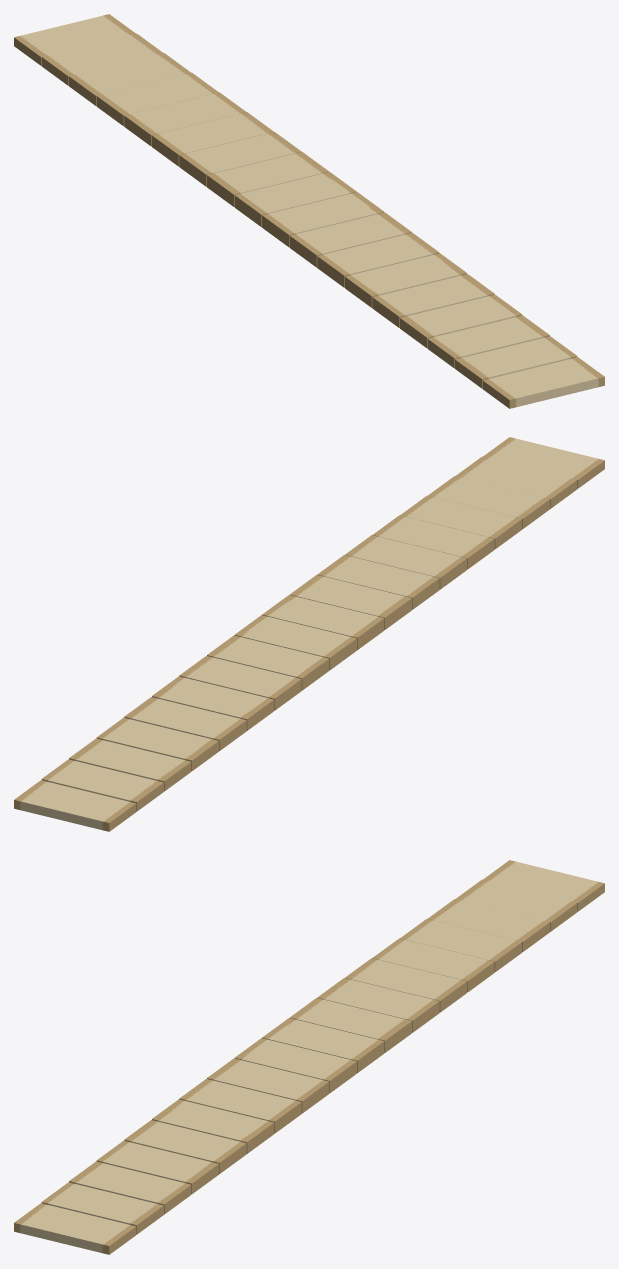
Rendered from bridge.glb.
3 renders of one model, top to bottom at view 1: azimuth 30°, elevation 25°; view 2: azimuth 150°, elevation 25°; view 3: azimuth 330°, elevation 25°, orthographic.
Visible parts, largest first — view 1: bridge; view 2: bridge; view 3: bridge.
Part boxes in pixels (x1,y1,x2,y2): bridge: (14,14,604,408); bridge: (14,437,604,831); bridge: (14,860,604,1254).
Bounding box in the file's own units: 4 × 0.5 × 36.
